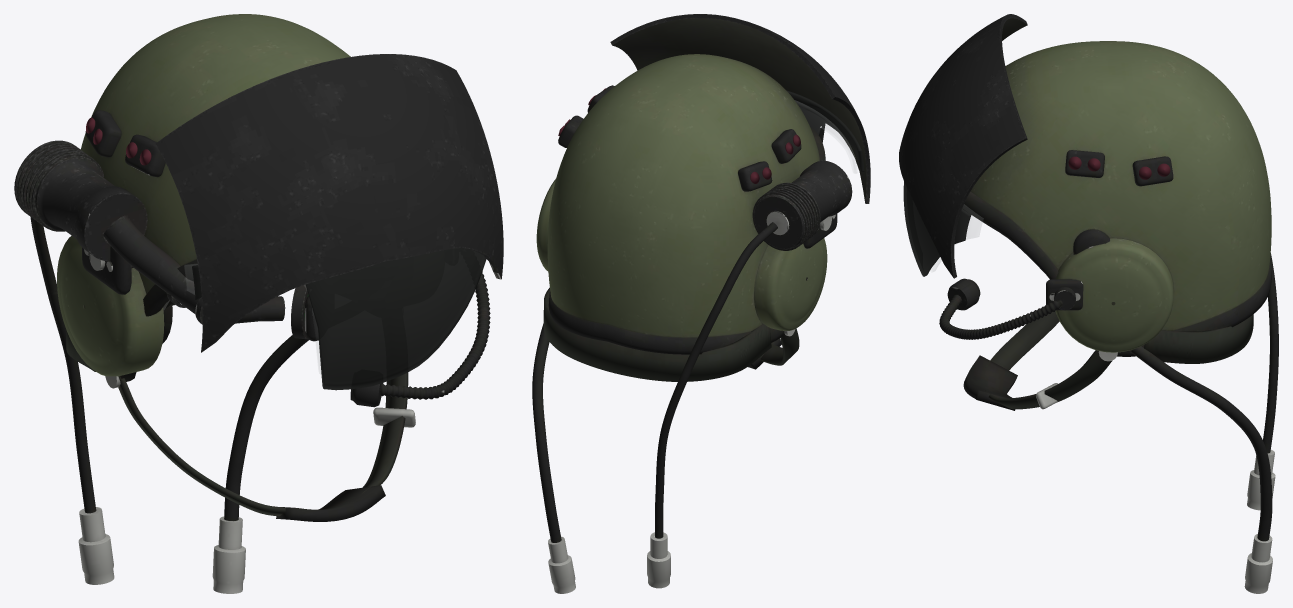
The model's file is apache_helmet_web.glb.
3 renders of one model, left to right at view 1: azimuth 30°, elevation 25°; view 2: azimuth 150°, elevation 25°; view 3: azimuth 270°, elevation 25°, orthographic. The views are drawn at different scales.
Parts seen in each view (by area): view 1: Visor_Housing, Shell, Visor_Tinted_Sheet, HDU_Body, Ear_Dome_Right, Cable_Display, Cord_Comms, Chin_Strap, Mic_Boom_Body, Chin_Cup, HDU_Adapter_Block, IR_Emitter_Right_Rear_Housing (+3 smaller); view 2: Shell, Visor_Housing, Nape_Strap, HDU_Body, Ear_Dome_Right, Cable_Display, Cord_Comms, Shell_Trim, Visor_Tinted_Sheet, Visor_Clear_Sheet, Ear_Dome_Left, Chin_Strap (+2 smaller); view 3: Shell, Visor_Housing, Ear_Dome_Left, Cord_Comms, Shell_Trim, Chin_Strap, Nape_Strap, Mic_Boom_Body, Cable_Display, Visor_Tinted_Sheet, Chin_Cup, IR_Emitter_Left_Rear_Housing (+3 smaller).
Boxes of the visible parts, bbox=[...] form: Visor_Housing: bbox=[155, 54, 503, 352]; Shell: bbox=[80, 14, 350, 309]; Visor_Tinted_Sheet: bbox=[192, 248, 486, 390]; HDU_Body: bbox=[14, 140, 318, 341]; Ear_Dome_Right: bbox=[57, 235, 164, 376]; Cable_Display: bbox=[30, 217, 114, 584]; Cord_Comms: bbox=[212, 335, 308, 593]; Chin_Strap: bbox=[118, 372, 408, 516]; Mic_Boom_Body: bbox=[350, 271, 490, 407]; Chin_Cup: bbox=[276, 485, 385, 521]; HDU_Adapter_Block: bbox=[82, 246, 131, 294]; IR_Emitter_Right_Rear_Housing: bbox=[85, 110, 121, 157]; Shell: bbox=[547, 54, 819, 337]; Visor_Housing: bbox=[610, 14, 870, 203]; Nape_Strap: bbox=[543, 287, 771, 381]; HDU_Body: bbox=[752, 160, 852, 250]; Ear_Dome_Right: bbox=[754, 238, 827, 330]; Cable_Display: bbox=[647, 222, 777, 588]; Cord_Comms: bbox=[532, 323, 575, 593]; Shell_Trim: bbox=[548, 127, 825, 354]; Visor_Tinted_Sheet: bbox=[786, 90, 864, 172]; Visor_Clear_Sheet: bbox=[796, 101, 856, 172]; Ear_Dome_Left: bbox=[536, 179, 555, 271]; Chin_Strap: bbox=[760, 328, 799, 365]; Shell: bbox=[970, 41, 1271, 330]; Visor_Housing: bbox=[899, 14, 1027, 278]; Ear_Dome_Left: bbox=[1055, 238, 1173, 352]; Cord_Comms: bbox=[1130, 346, 1272, 593]; Shell_Trim: bbox=[962, 191, 1271, 356]; Chin_Strap: bbox=[985, 305, 1111, 409]; Nape_Strap: bbox=[1144, 314, 1253, 363]; Mic_Boom_Body: bbox=[939, 278, 1075, 339]; Cable_Display: bbox=[1247, 253, 1278, 510]; Visor_Tinted_Sheet: bbox=[903, 181, 971, 276]; Chin_Cup: bbox=[963, 355, 1017, 410]; IR_Emitter_Left_Rear_Housing: bbox=[1132, 156, 1173, 186].
Size of the model in its own units: 0.2771 by 0.4574 by 0.2978.
Materials: 8 (4 with a texture image).
